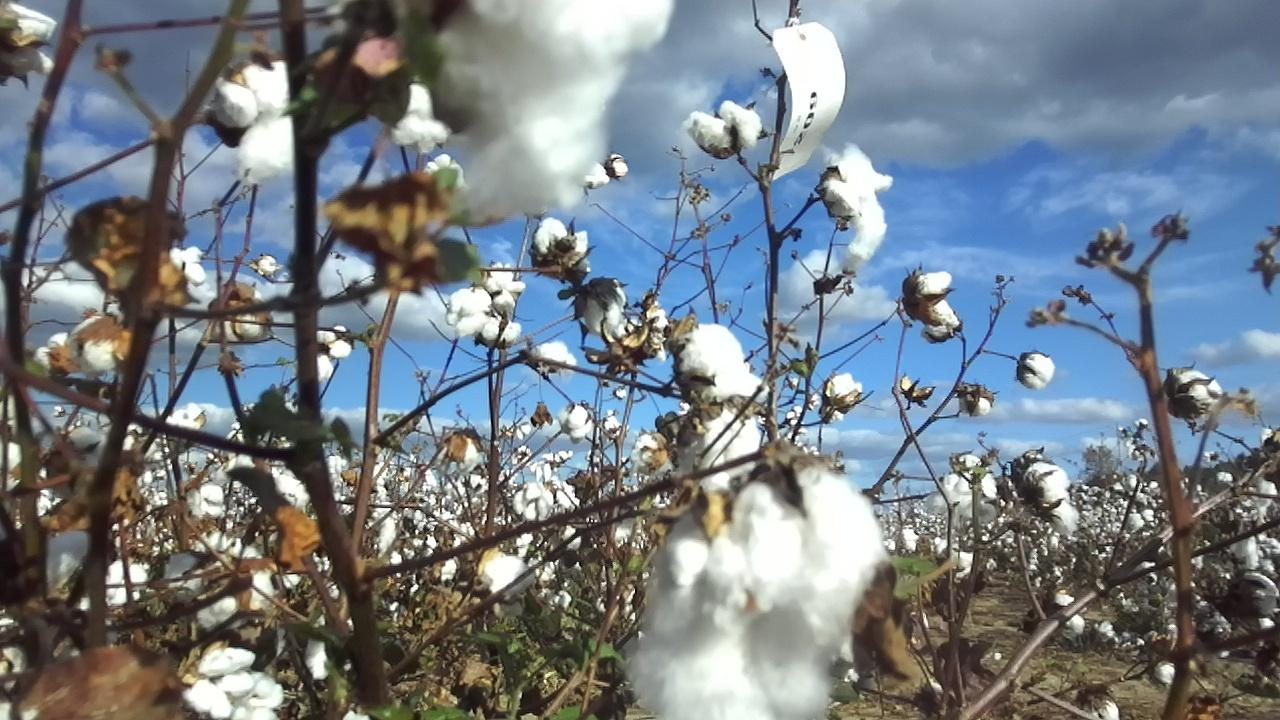cotton_ready: (432, 0, 673, 219), (733, 465, 884, 659), (628, 615, 834, 720), (646, 525, 741, 634), (214, 61, 293, 187), (164, 553, 274, 630), (824, 144, 896, 259), (672, 407, 762, 495), (680, 324, 767, 403), (189, 647, 259, 720), (40, 425, 105, 497), (439, 553, 539, 597), (688, 99, 762, 154), (389, 84, 449, 151), (0, 2, 59, 70), (1025, 462, 1077, 535), (929, 474, 999, 524), (535, 217, 590, 275), (67, 314, 119, 374), (47, 530, 94, 594), (909, 269, 960, 325), (227, 675, 284, 720), (204, 313, 272, 344)
